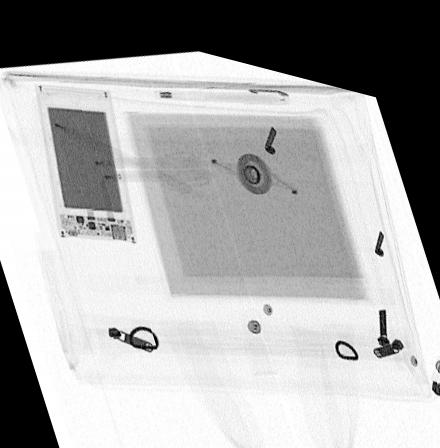Powerbank: (33, 80, 136, 236)
